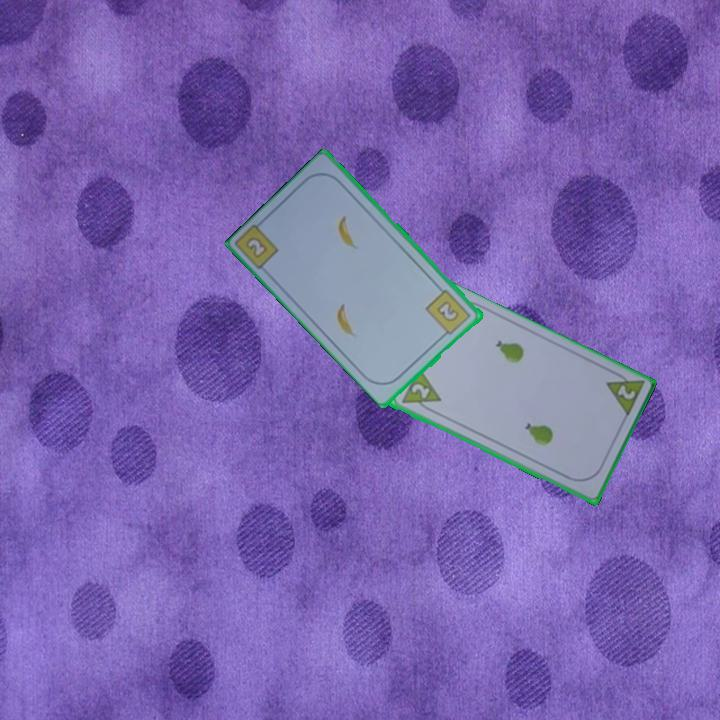2b: (422, 286, 474, 340), (244, 235, 268, 259)
2p: (601, 366, 647, 420), (407, 380, 432, 402)
